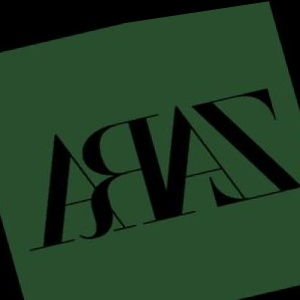zara: (271, 39, 298, 118)
